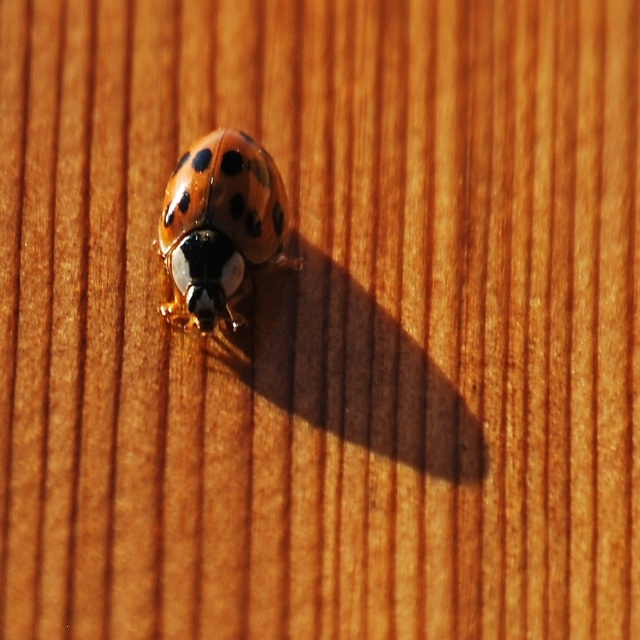Ladybug: (148, 115, 309, 344)
